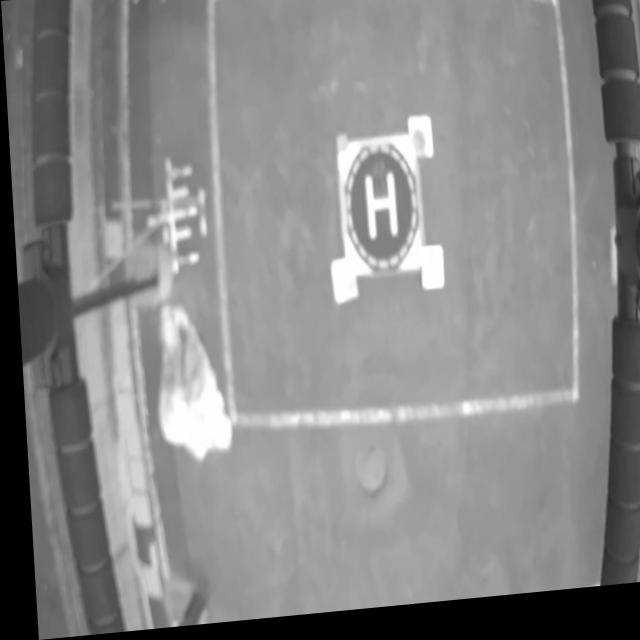Helipad: (361, 178, 394, 248)
